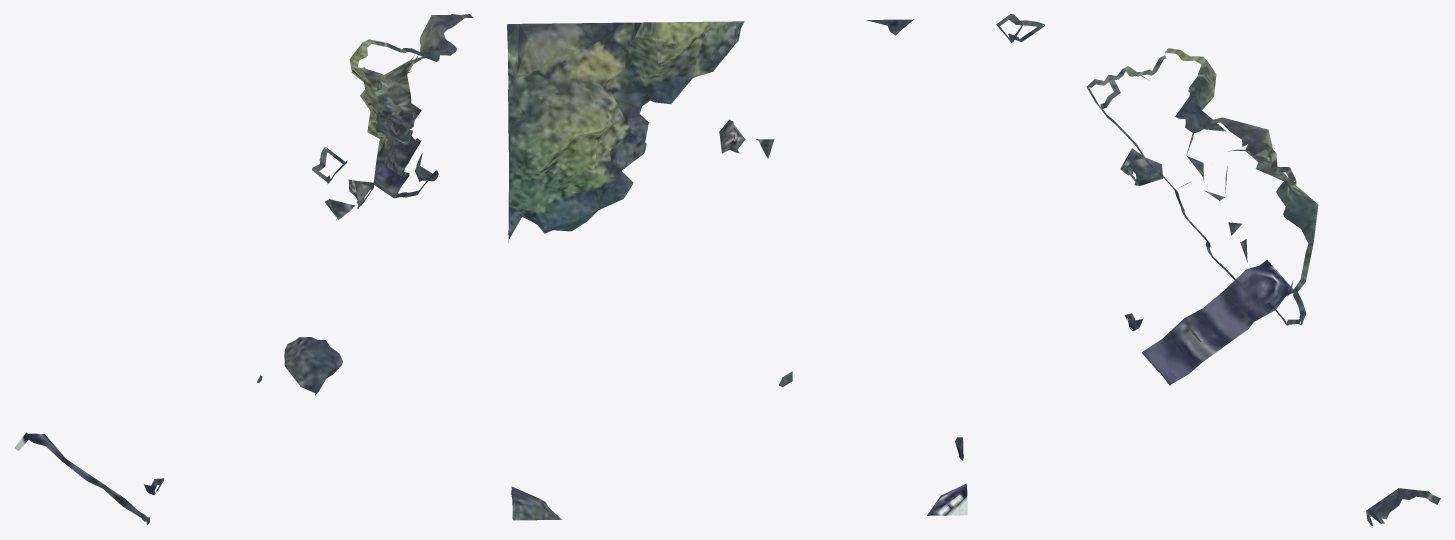
3 views of the same model, side by side, from view 1: azimuth 30°, elevation 25°; view 2: azimuth 150°, elevation 25°; view 3: azimuth 270°, elevation 25° (orthographic). The views are drawn at different scales.
Bounding box in the file's own units: 42.29 × 38.1 × 33.87.
1 material, 1 textured.
